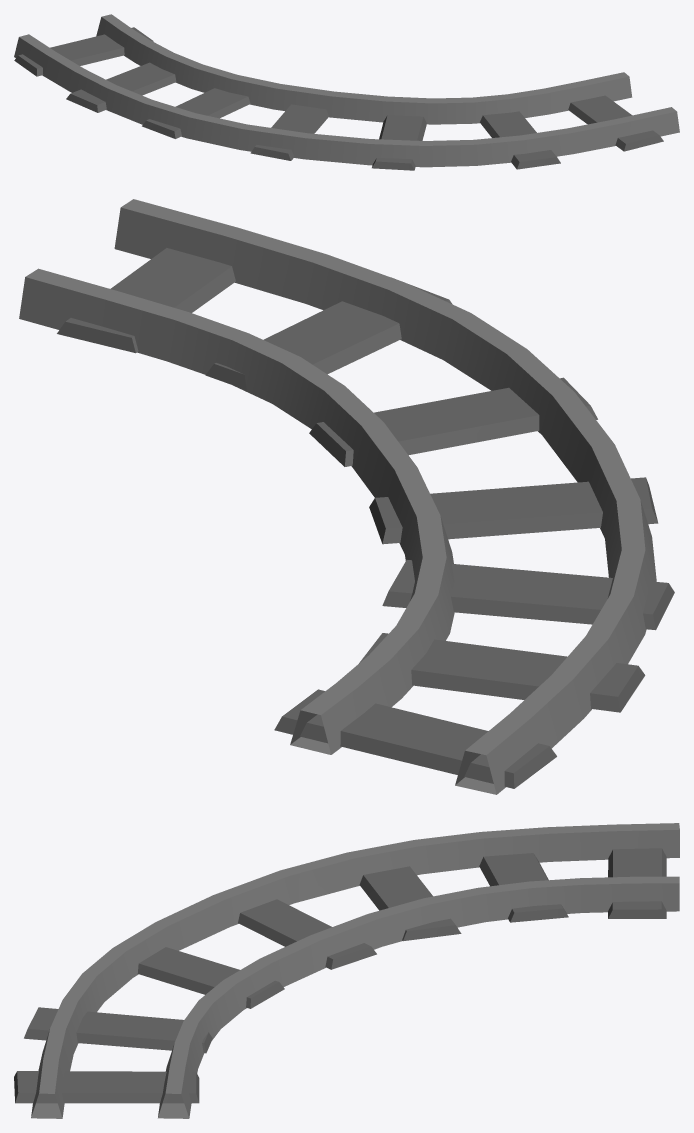
The model's file is Ray_Curve_01.fbx.
3 views of the same model, one above another, from view 1: azimuth 30°, elevation 25°; view 2: azimuth 150°, elevation 25°; view 3: azimuth 270°, elevation 25° (orthographic). The views are drawn at different scales.
Visible parts, largest first — view 1: Ray_Curve_01; view 2: Ray_Curve_01; view 3: Ray_Curve_01.
Part boxes in pixels (box(x1,y1,x2,y2)): Ray_Curve_01: box(14, 14, 679, 170); Ray_Curve_01: box(19, 199, 674, 794); Ray_Curve_01: box(14, 823, 679, 1118).
Size of the model in its own units: 2046 by 85.45 by 2075.
